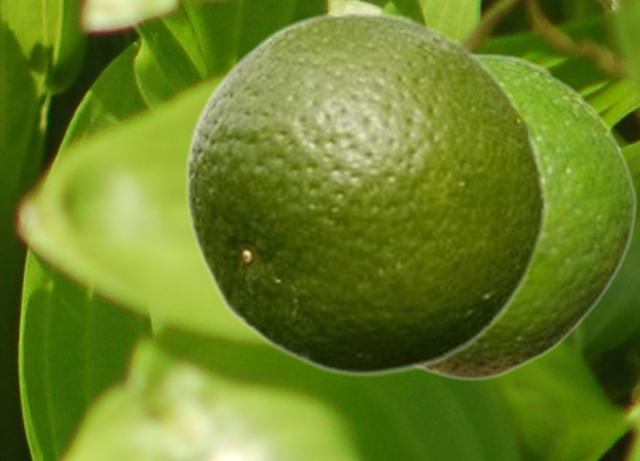calamansi: (184, 6, 548, 377), (418, 52, 636, 381)
